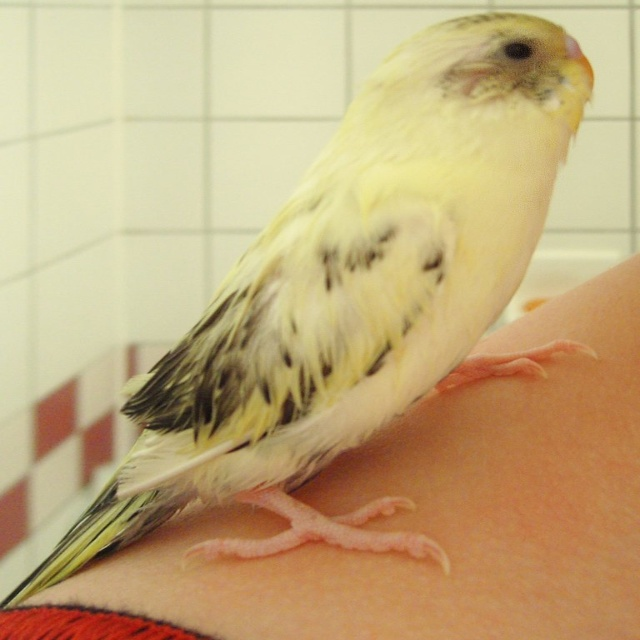Parrot: (0, 12, 596, 611)
